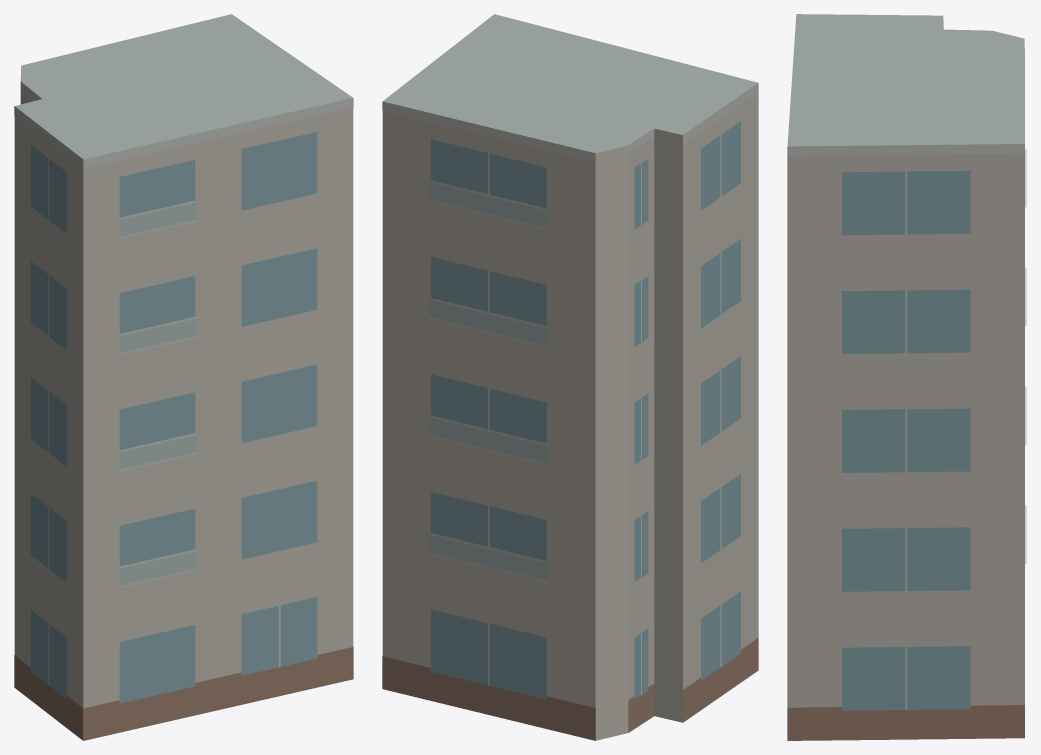
Rendered from survey-upis-32911892.glb.
3 renders of one model, left to right at view 1: azimuth 30°, elevation 25°; view 2: azimuth 150°, elevation 25°; view 3: azimuth 270°, elevation 25°, orthographic. The views are drawn at different scales.
Parts seen in each view (by area): view 1: survey-upis-32911892.tmp; view 2: survey-upis-32911892.tmp; view 3: survey-upis-32911892.tmp.
Part boxes in pixels (box(x1,y1,x2,y2)): survey-upis-32911892.tmp: box(14, 14, 353, 740); survey-upis-32911892.tmp: box(382, 14, 758, 740); survey-upis-32911892.tmp: box(787, 14, 1026, 740).
Size of the model in its own units: 7.3 by 15.25 by 5.57.
